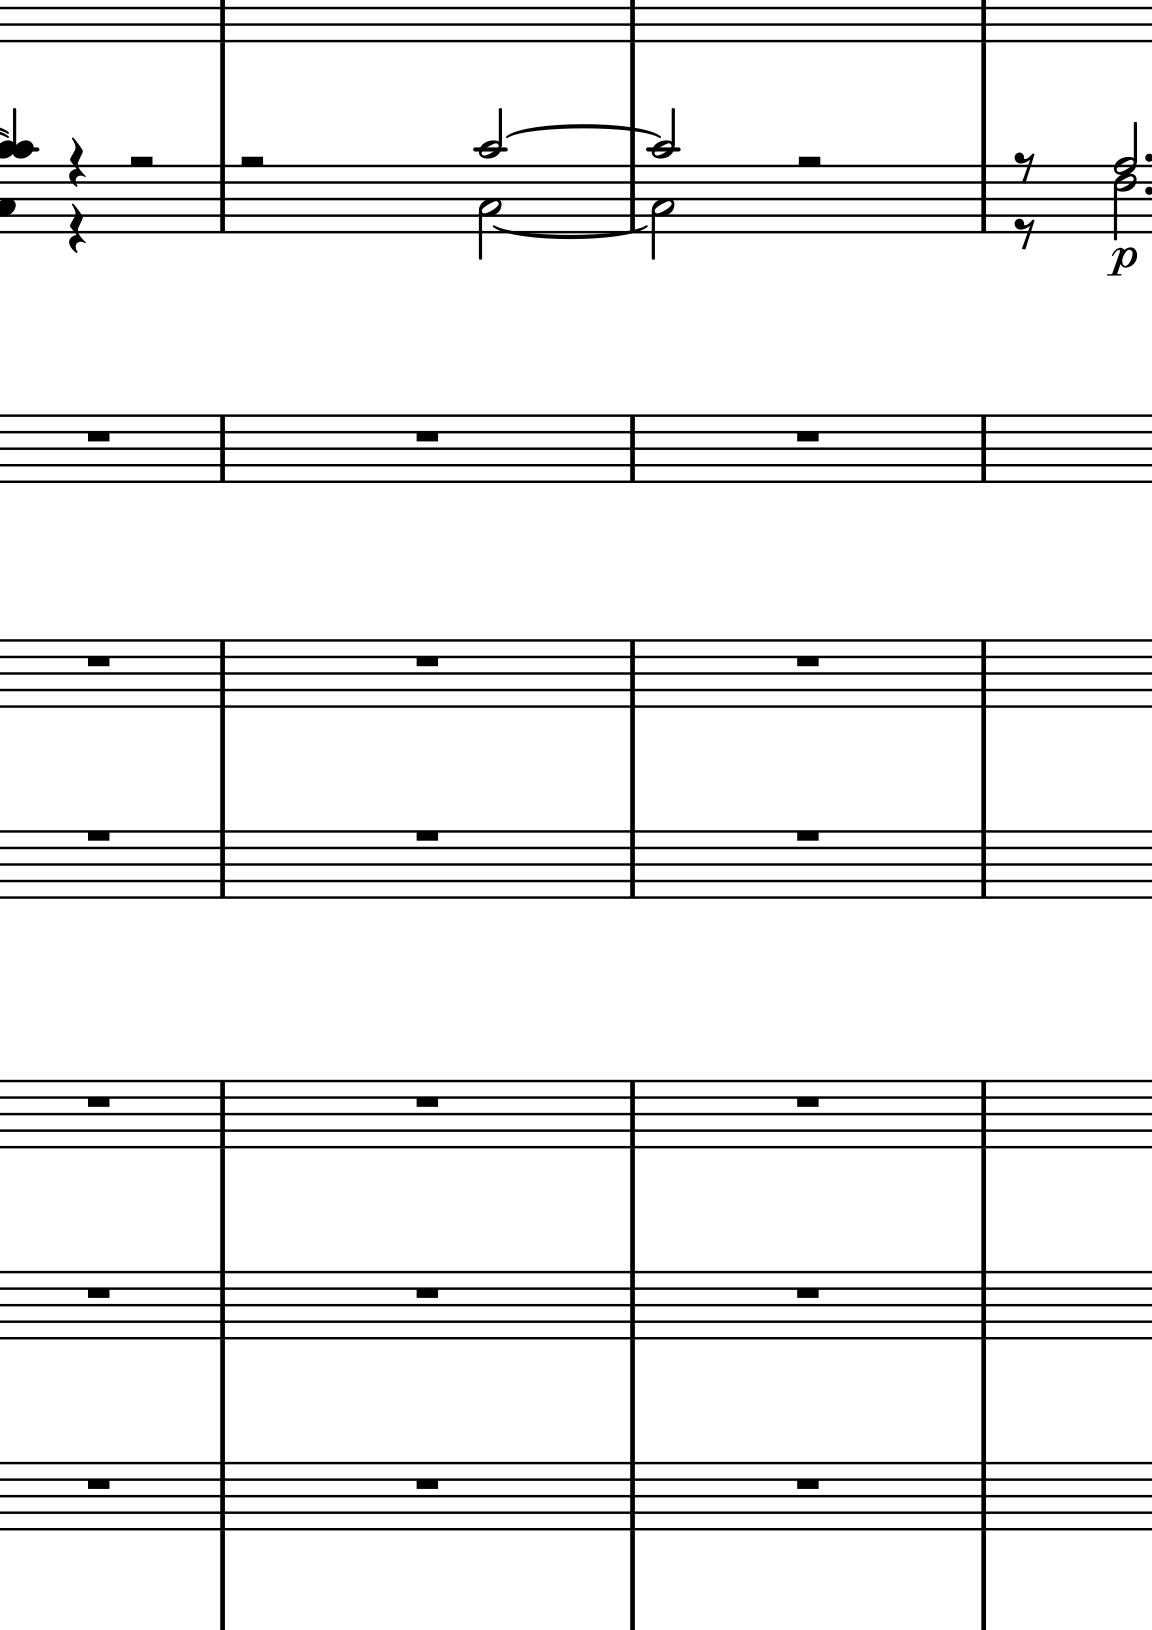2_3_10: (645, 107, 679, 260), (473, 108, 507, 260)
2_6_8: (1113, 120, 1140, 241)
Rests1: (82, 824, 115, 845), (790, 825, 823, 845), (790, 1092, 823, 1112), (411, 825, 443, 845), (411, 1092, 443, 1112), (790, 1474, 823, 1493), (84, 651, 113, 670), (84, 1092, 113, 1112), (411, 652, 443, 670), (792, 652, 823, 670), (82, 1284, 113, 1302), (411, 1284, 443, 1302), (792, 1284, 823, 1302), (82, 1474, 113, 1493), (411, 1474, 443, 1493), (790, 427, 823, 445), (82, 427, 113, 445), (411, 427, 443, 445)
Rests2: (792, 151, 827, 172), (236, 151, 268, 172), (125, 152, 158, 171)
Rests4: (65, 136, 87, 189), (65, 203, 86, 255)
Rests8: (1012, 148, 1039, 182), (1012, 216, 1039, 249)
Single_barline: (209, 1461, 234, 1532), (620, 1461, 645, 1532), (209, 164, 234, 233), (621, 164, 646, 232), (620, 1272, 645, 1340), (972, 1462, 996, 1532), (620, 830, 643, 898), (211, 1272, 234, 1340), (621, 1080, 645, 1146), (972, 830, 995, 898), (972, 1271, 995, 1340), (621, 416, 643, 484), (621, 641, 643, 708), (972, 641, 995, 708), (211, 1080, 233, 1148), (972, 1080, 995, 1148), (972, 415, 994, 484), (972, 164, 994, 232), (212, 416, 233, 484), (212, 641, 233, 708), (211, 831, 232, 898)
Slur: (504, 123, 663, 138), (492, 224, 650, 239)
dot: (1141, 152, 1152, 164), (1141, 184, 1152, 196)
p: (1106, 243, 1140, 283)
